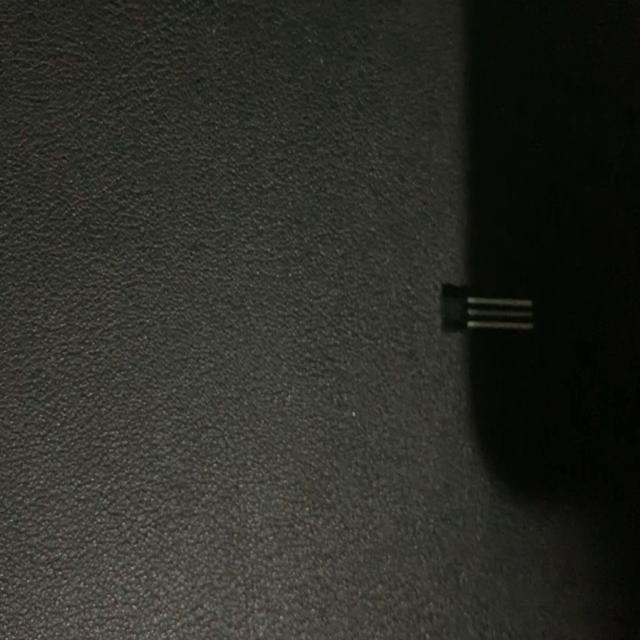BJT: (436, 272, 540, 347)
